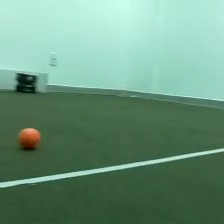ball: (16, 125, 41, 151)
goal: (1, 67, 51, 95)
robot: (14, 70, 39, 96)
